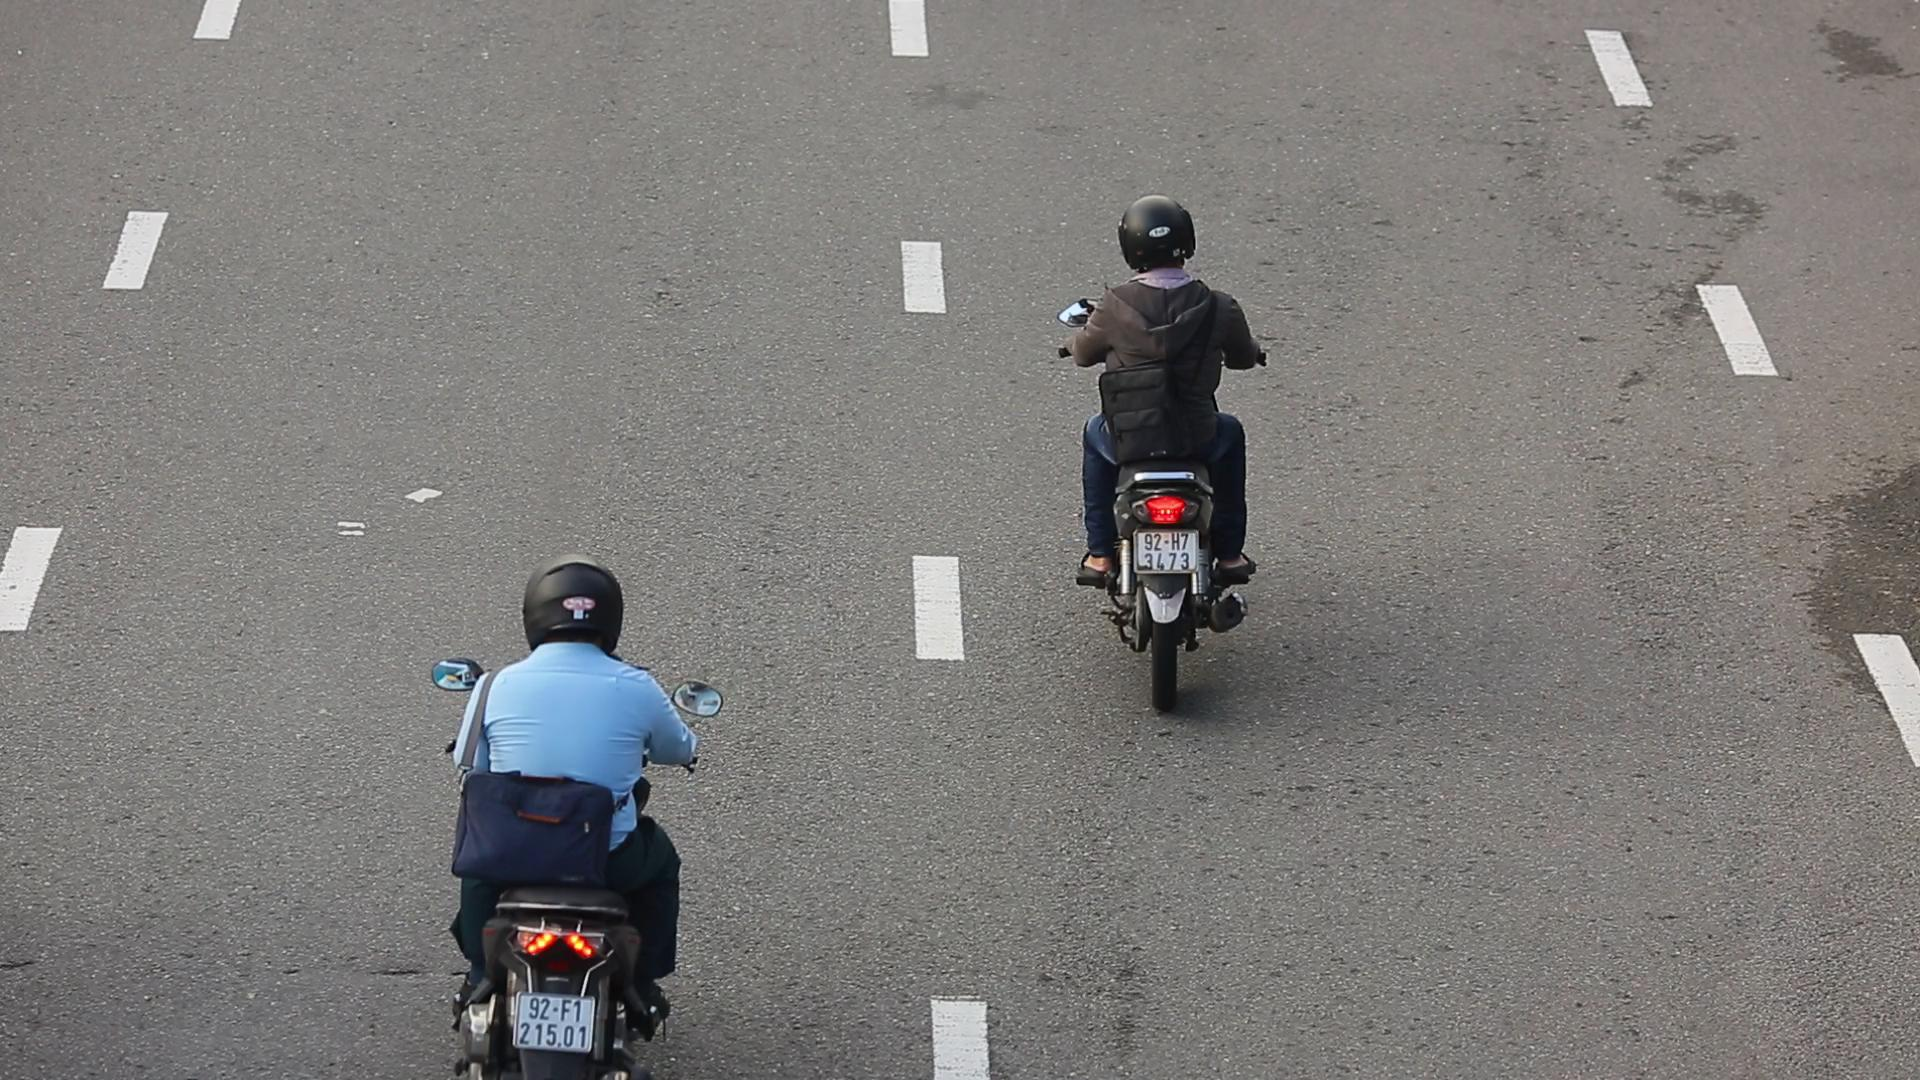motobike: (426, 542, 729, 1080), (1044, 189, 1279, 711)
